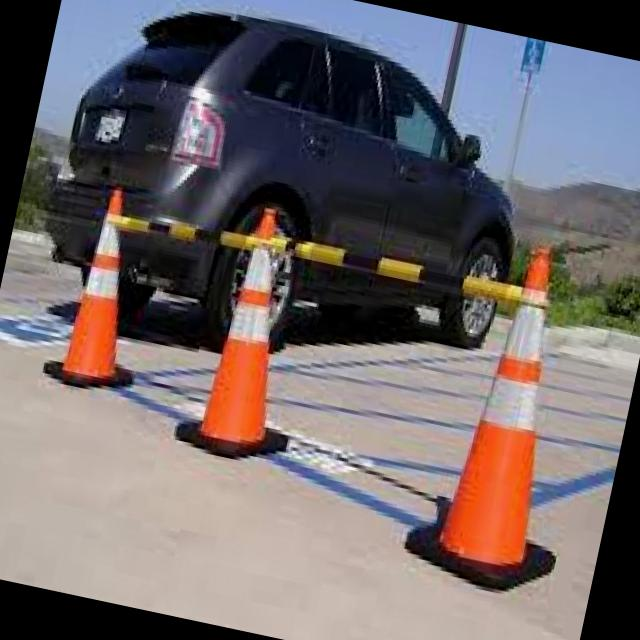Cone: (396, 208, 628, 613), (166, 200, 328, 473), (48, 185, 168, 399)
